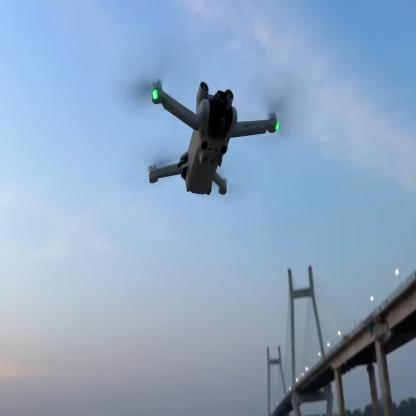drone: (111, 49, 291, 221)
